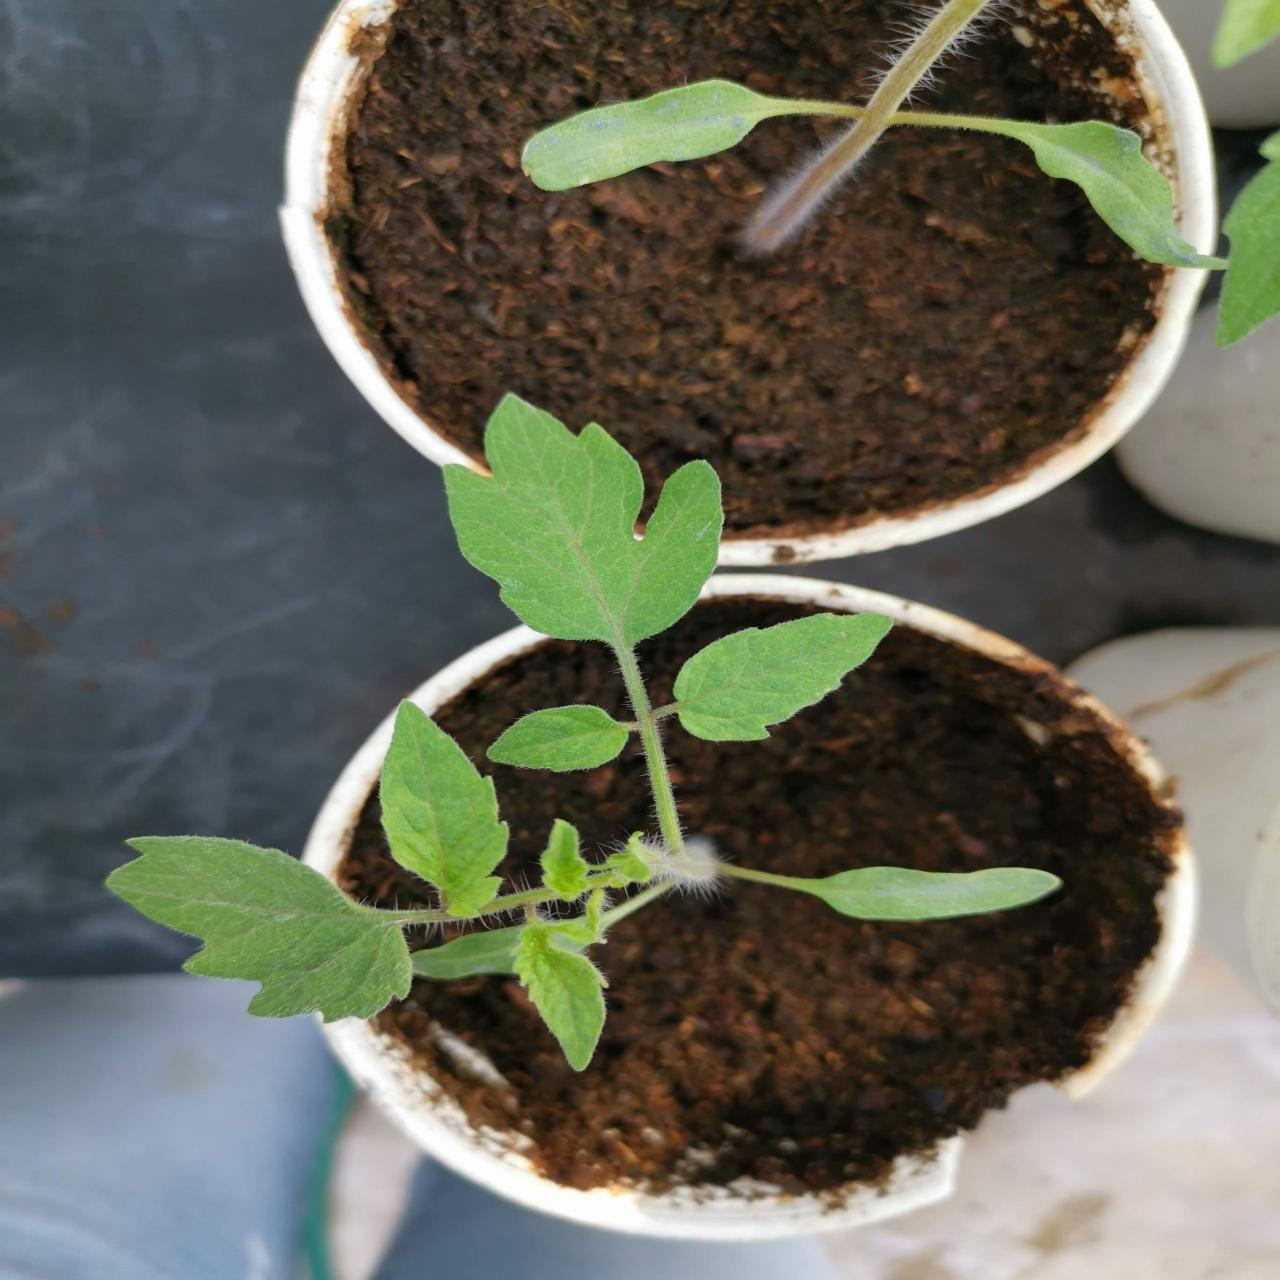T_L_R: (444, 394, 726, 652), (105, 837, 413, 1024), (1003, 120, 1228, 272), (520, 80, 776, 193), (377, 699, 509, 919), (674, 613, 894, 742), (510, 921, 610, 1073), (815, 866, 1064, 920), (486, 704, 629, 772)
